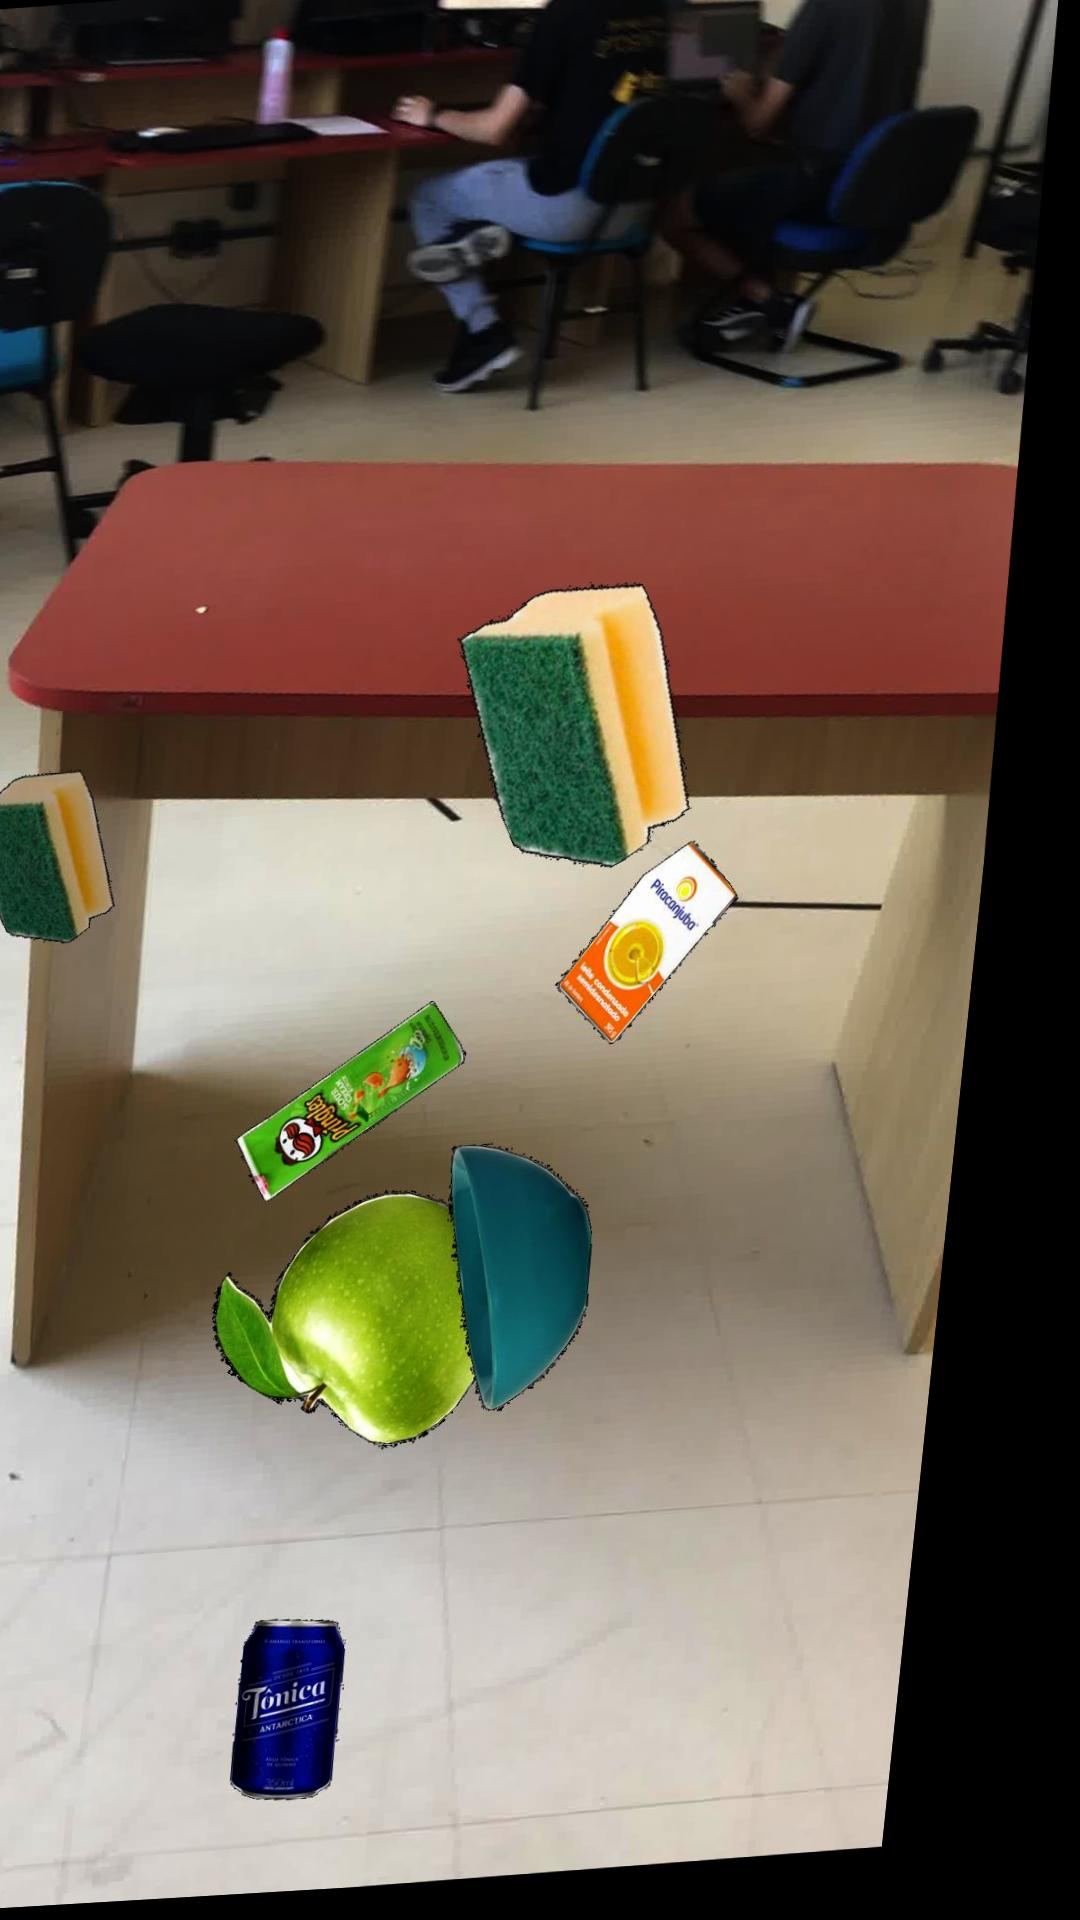bowl: (477, 1151, 621, 1418)
green apple: (243, 1197, 508, 1449)
pringles: (264, 1006, 491, 1205)
sponge: (476, 591, 709, 874), (0, 770, 136, 944)
tonic: (272, 1623, 382, 1804)
